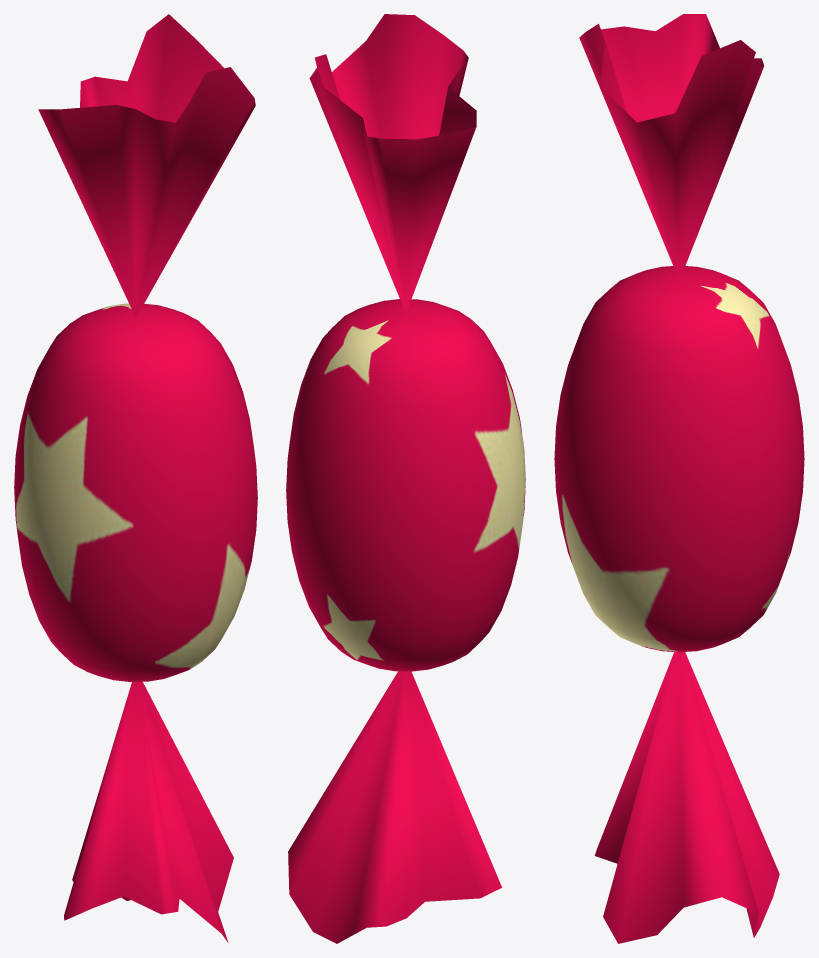
Rendered from candy.fbx.
3 renders of one model, left to right at view 1: azimuth 30°, elevation 25°; view 2: azimuth 150°, elevation 25°; view 3: azimuth 270°, elevation 25°, orthographic. The views are drawn at different scales.
Visible parts, largest first — view 1: pCone3; view 2: pCone3; view 3: pCone3.
Boxes of the visible parts, <box> form: pCone3: <box>14,14,257,942</box>; pCone3: <box>286,14,525,943</box>; pCone3: <box>554,14,804,943</box>.
Bounding box in the file's own units: 20 × 79.8 × 20.
1 material, 1 textured.
